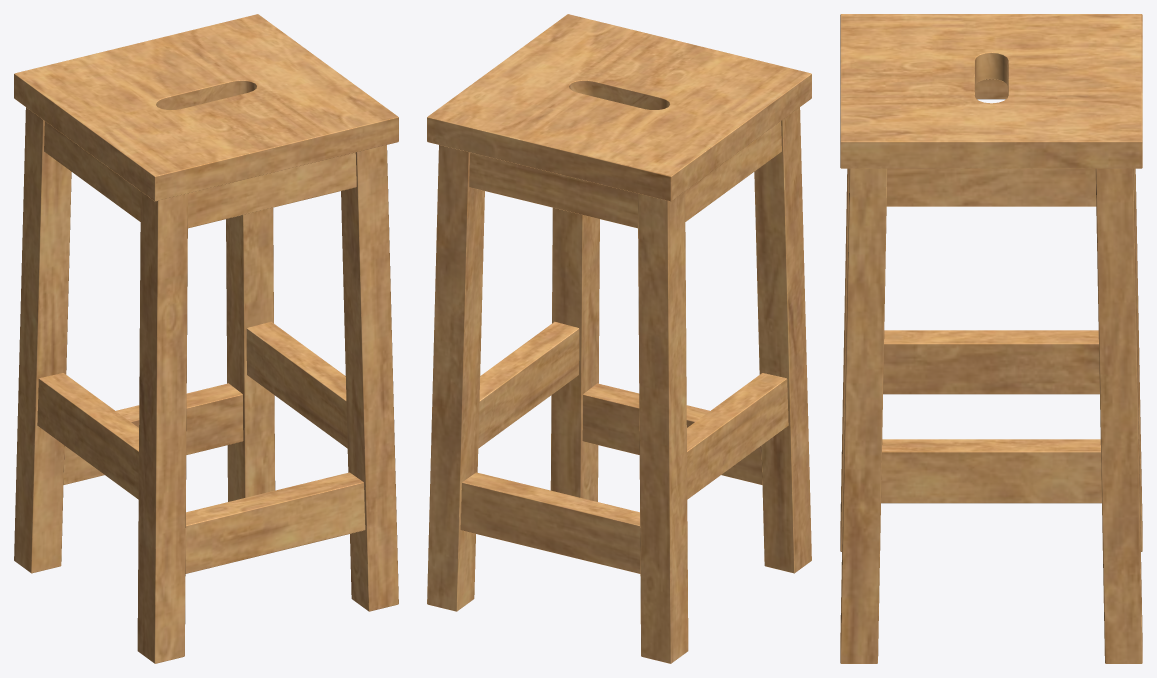
The model's file is st_stool_8_pine.gltf.
The picture shows the model from 3 angles, left to right: view 1: azimuth 30°, elevation 25°; view 2: azimuth 150°, elevation 25°; view 3: azimuth 270°, elevation 25°; orthographic projection. The views are drawn at different scales.
Parts seen in each view (by area): view 1: wooden_lab_stool.002, wooden_lab_stool.001, wooden_lab_stool.004, wooden_lab_stool.003; view 2: wooden_lab_stool.002, wooden_lab_stool.001, wooden_lab_stool.004, wooden_lab_stool.003; view 3: wooden_lab_stool.001, wooden_lab_stool.002, wooden_lab_stool.004, wooden_lab_stool.003.
Part boxes in pixels (<box>): wooden_lab_stool.002: <box>14,107,398,663</box>; wooden_lab_stool.001: <box>14,14,398,201</box>; wooden_lab_stool.004: <box>37,321,365,573</box>; wooden_lab_stool.003: <box>44,121,356,228</box>; wooden_lab_stool.002: <box>427,107,811,663</box>; wooden_lab_stool.001: <box>427,14,811,201</box>; wooden_lab_stool.004: <box>460,321,788,573</box>; wooden_lab_stool.003: <box>469,121,781,228</box>; wooden_lab_stool.001: <box>840,14,1142,168</box>; wooden_lab_stool.002: <box>840,168,1142,663</box>; wooden_lab_stool.004: <box>881,330,1101,503</box>; wooden_lab_stool.003: <box>886,79,1096,206</box>.
Size of the model in its own units: 0.32 by 0.61 by 0.32.
1 material, 1 textured.
